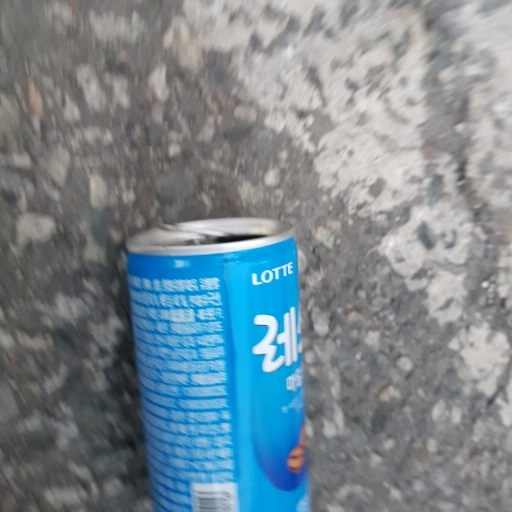Metal_0: (121, 209, 309, 512)
